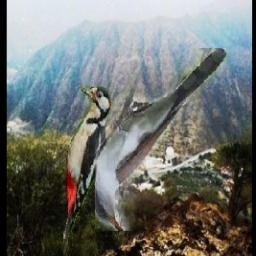Cuckoo: (95, 48, 227, 231)
Woodpecker: (63, 86, 111, 256)
